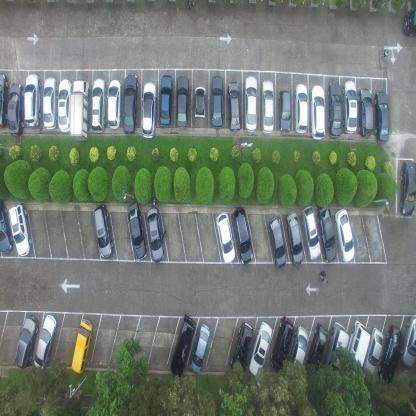car: (169, 313, 196, 378), (324, 319, 350, 380), (378, 324, 404, 382), (33, 312, 57, 371), (346, 319, 371, 375), (231, 321, 255, 379), (15, 315, 40, 370), (70, 318, 94, 374), (270, 316, 294, 372), (317, 200, 338, 262), (249, 321, 272, 377), (8, 204, 32, 257), (305, 321, 329, 373), (70, 80, 90, 142), (233, 206, 254, 265), (127, 201, 147, 261), (189, 322, 211, 375), (301, 205, 322, 260), (334, 207, 355, 262), (215, 210, 235, 266), (94, 202, 114, 258), (362, 326, 384, 375), (287, 325, 308, 376), (285, 210, 303, 266), (146, 207, 164, 263), (24, 74, 42, 129), (268, 216, 287, 268), (123, 71, 138, 135), (141, 81, 157, 140), (399, 159, 415, 217), (8, 83, 24, 139), (309, 84, 325, 140), (327, 79, 342, 138), (374, 89, 390, 143), (43, 76, 58, 132), (175, 74, 190, 129), (159, 74, 174, 128), (92, 76, 106, 133), (401, 314, 416, 367), (58, 78, 72, 134), (343, 79, 357, 135), (244, 74, 257, 134), (107, 78, 122, 130), (359, 86, 374, 136), (227, 80, 241, 132), (294, 82, 308, 134), (0, 199, 13, 255), (210, 76, 223, 129), (262, 78, 274, 132), (278, 88, 291, 132), (0, 71, 8, 129), (194, 86, 206, 119), (404, 8, 416, 36)
